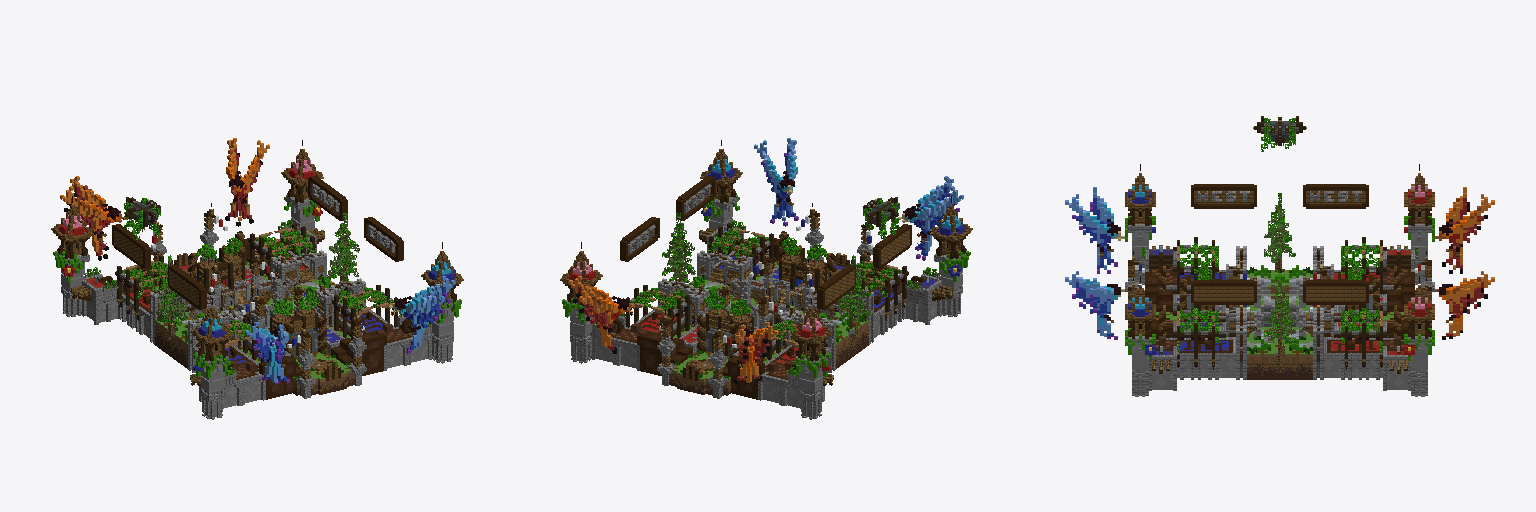
3 views of the same model, side by side, from view 1: azimuth 30°, elevation 25°; view 2: azimuth 150°, elevation 25°; view 3: azimuth 270°, elevation 25° (orthographic).
Size of the model in its own units: 86.12 by 51 by 123.
79 materials, 25 textured.